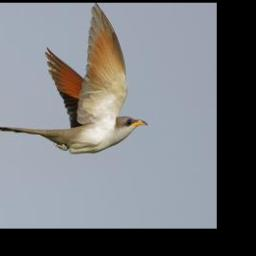Cuckoo: (0, 3, 147, 152)
